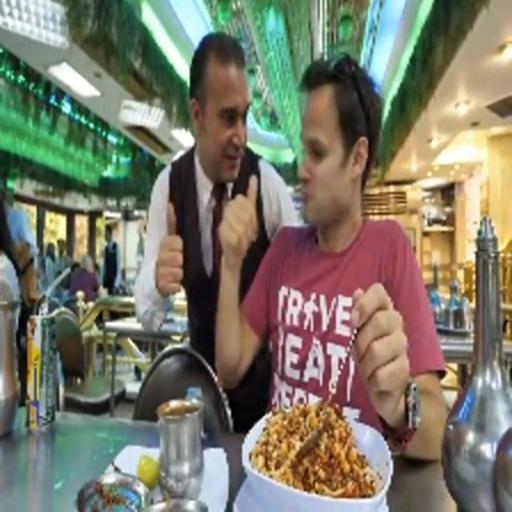nao-violencia: (119, 21, 454, 512)
